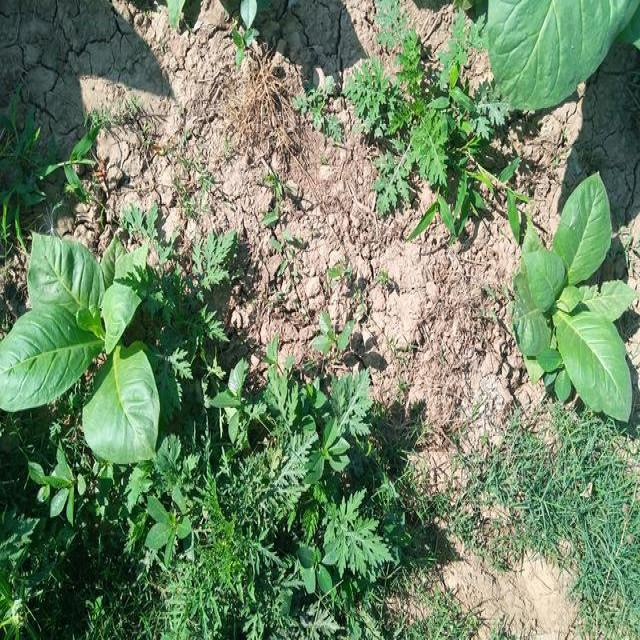crop: (0, 218, 162, 463), (509, 170, 640, 420)
